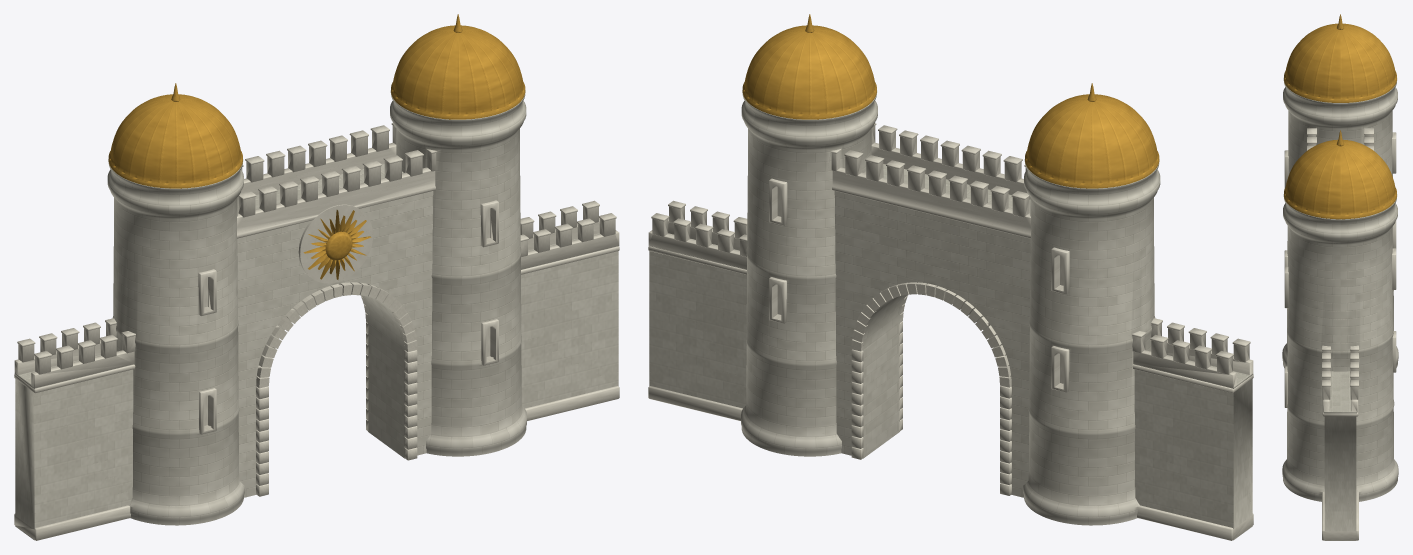
The model's file is golden_gate_solhaven.glb.
3 views of the same model, side by side, from view 1: azimuth 30°, elevation 25°; view 2: azimuth 150°, elevation 25°; view 3: azimuth 270°, elevation 25° (orthographic). The views are drawn at different scales.
Parts seen in each view (by area): view 1: Golden_Gate_of_Solhaven; view 2: Golden_Gate_of_Solhaven; view 3: Golden_Gate_of_Solhaven.
Boxes of the visible parts, x1=… form: Golden_Gate_of_Solhaven: x1=14, y1=14, x2=619, y2=540; Golden_Gate_of_Solhaven: x1=648, y1=14, x2=1253, y2=540; Golden_Gate_of_Solhaven: x1=1282, y1=14, x2=1398, y2=540.
Size of the model in its own units: 24.04 by 16.24 by 4.9.
2 materials, 2 textured.
